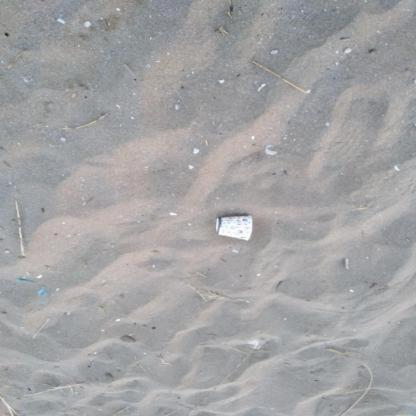Cup: (216, 215, 252, 240)
Unlabeled litter: (38, 286, 46, 295), (18, 278, 34, 282)
